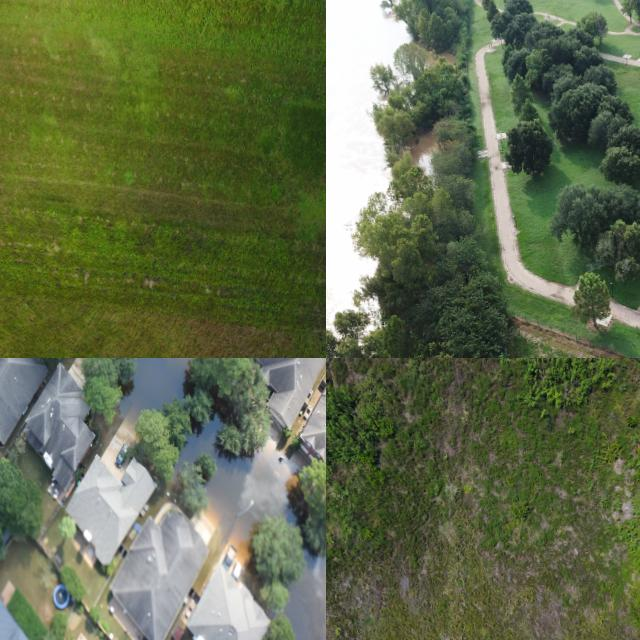fire: (326, 0, 408, 326), (195, 458, 249, 593), (239, 438, 297, 520), (120, 358, 190, 416), (285, 552, 326, 640), (408, 129, 437, 174)
